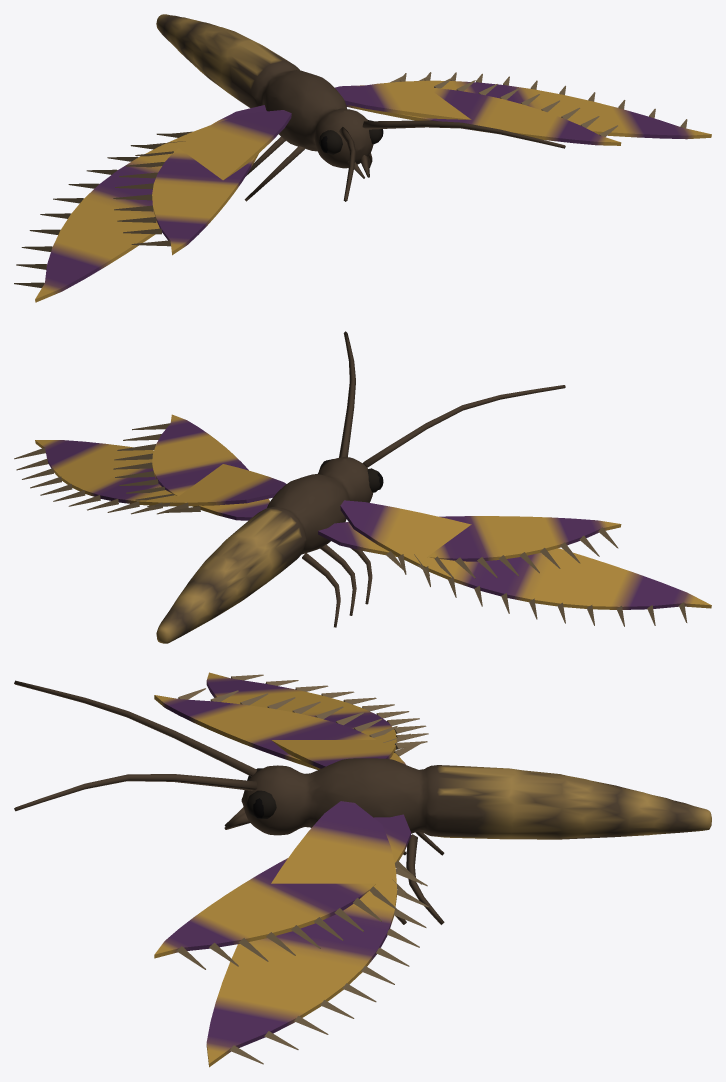
The model's file is Archaeolepis.fbx.
The picture shows the model from 3 angles, top to bottom: view 1: azimuth 30°, elevation 25°; view 2: azimuth 150°, elevation 25°; view 3: azimuth 270°, elevation 25°; orthographic projection. The views are drawn at different scales.
Parts seen in each view (by area): view 1: Archaeolepis; view 2: Archaeolepis; view 3: Archaeolepis.
Part boxes in pixels (<box>): Archaeolepis: <box>14,14,711,302</box>; Archaeolepis: <box>14,331,711,643</box>; Archaeolepis: <box>14,672,711,1067</box>.
Size of the model in its own units: 1.23 by 0.2197 by 0.9305.
